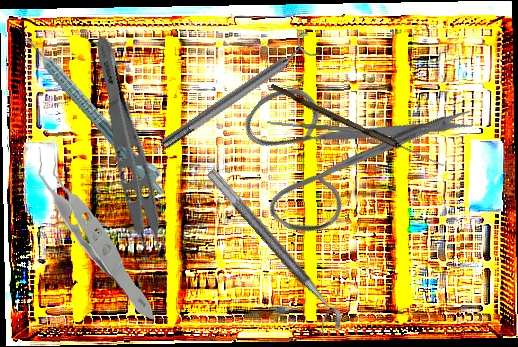Fixation Ring: (192, 167, 350, 341), (155, 29, 322, 157)
Handpiece: (20, 27, 175, 200)
Iris Scissors: (208, 4, 480, 279)
Spatula Surgical: (266, 119, 378, 135)
Surgical Spoon: (268, 83, 446, 170)
Tissue Forceps: (74, 33, 176, 275), (36, 135, 156, 328)
